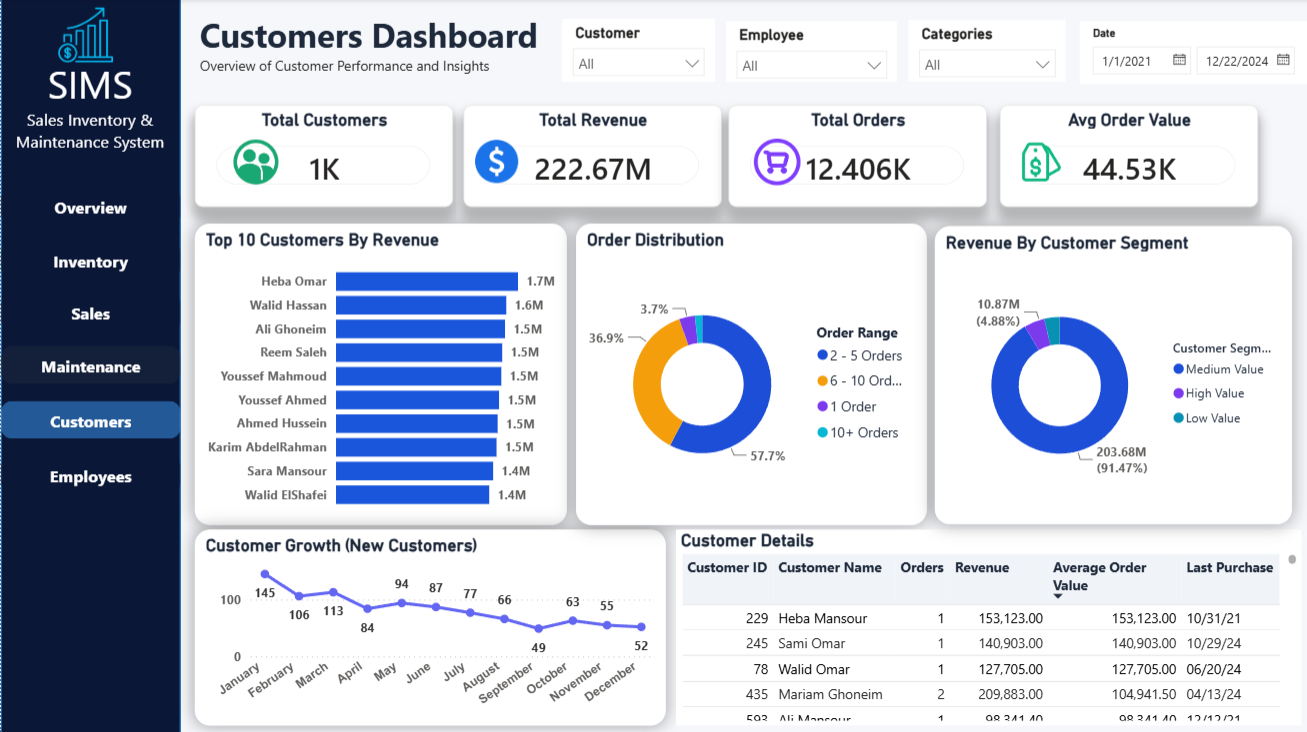

The dashboard page shown, as its layout file describes it:
{"tool":"powerbi","page":{"name":"Customers","canvas":[1280,720],"ordinal":4},"visuals":[{"type":"shape","box":[0,0,175.6,720.4],"z":0},{"type":"textbox","box":[189,8,389.7,86.4],"z":1000},{"type":"slicer","fields":{"Values":["maintenance_item.Date"]},"box":[1055,22,225,61.7],"z":2000},{"type":"slicer","fields":{"Values":["customers.Full Name"]},"box":[548.9,19.2,149.6,61.7],"z":3000},{"type":"slicer","fields":{"Values":["employees.Full Name"]},"box":[709.4,22,167.4,59],"z":4000},{"type":"slicer","fields":{"Values":["categories.Name"]},"box":[887.8,20.6,153.7,60.4],"z":5000},{"type":"cardVisual","title":"Total Customers","fields":{"Data":["CountNonNull(customers.Customers_id)"]},"box":[189.4,104.3,252.5,100.2],"z":6000},{"type":"cardVisual","title":"Total Revenue","fields":{"Data":["Sum(sales.Total_Price)"]},"box":[452.8,104.3,252.5,100.2],"z":7000},{"type":"cardVisual","title":"Total Orders","fields":{"Data":["CountNonNull(pro_sales.Sales_id)"]},"box":[712.2,104.3,252.5,100.2],"z":8000},{"type":"cardVisual","title":"Avg Order Value","fields":{"Data":["pro_sales.Average Order Value"]},"box":[977,104.3,252.5,100.2],"z":9000},{"type":"clusteredBarChart","title":"Top 10 Customers By Revenue","fields":{"Category":["customers.Full Name"],"Y":["sales.Total Revenue"]},"box":[189.4,219.6,364,295],"z":10000},{"type":"lineChart","title":"Customer Growth (New Customers)","fields":{"Category":["sales.Order_date.Variation.Date Hierarchy.Month"],"Y":["customers.New Customers"]},"box":[189.4,520.1,461.1,192.1],"z":11000},{"type":"donutChart","title":"Order Distribution","fields":{"Category":["customers.Order Range"],"Y":["Count(customers.Customers_id)"]},"box":[563,219.5,343.5,295.1],"z":12000},{"type":"tableEx","title":"Customer Details","fields":{"Values":["customers.Customers_id","customers.Full Name","sales.Sales_id","sales.Total Revenue","pro_sales.Average Order Value","customers.Last Purchase"]},"box":[660,520.1,612,192.1],"z":13000},{"type":"donutChart","title":"Revenue By Customer Segment","fields":{"Y":["Sum(sales.Total_Price)"],"Category":["customers.Customer Segment"]},"box":[914,222.4,349.2,292.2],"z":14000},{"type":"actionButton","box":[0,185.2,175.6,37],"z":15000},{"type":"actionButton","box":[0,237.4,175.6,37],"z":16000},{"type":"actionButton","box":[0,288.2,175.6,37],"z":17000},{"type":"actionButton","box":[0,340.3,175.6,37],"z":18000},{"type":"actionButton","box":[0,393.8,175.6,37],"z":19000},{"type":"actionButton","box":[0,447.3,175.6,37],"z":20000},{"type":"image","box":[976.4,136.8,84.1,45.6],"z":21000},{"type":"textbox","box":[2.9,52.7,169.6,122.6],"z":22000},{"type":"image","box":[0,8.2,166,53.5],"z":23000},{"type":"image","box":[453.3,132.6,62.7,54.2],"z":24000},{"type":"image","box":[225.2,136.8,48.5,45.6],"z":25000},{"type":"image","box":[735.5,136.8,48.5,45.6],"z":26000}]}

Visuals, with their boxes on the page's 1280x720 design canvas (x1, y1, x2, y2). These are canvas units, not pixel positions in the 1307x732 screenshot, which may show the page scaled, cropped or inside an application window:
shape: [x1=0, y1=0, x2=176, y2=720]
textbox: [x1=189, y1=8, x2=579, y2=94]
slicer - maintenance_item.Date: [x1=1055, y1=22, x2=1280, y2=84]
slicer - customers.Full Name: [x1=549, y1=19, x2=698, y2=81]
slicer - employees.Full Name: [x1=709, y1=22, x2=877, y2=81]
slicer - categories.Name: [x1=888, y1=21, x2=1042, y2=81]
"Total Customers" cardVisual: [x1=189, y1=104, x2=442, y2=204]
"Total Revenue" cardVisual: [x1=453, y1=104, x2=705, y2=204]
"Total Orders" cardVisual: [x1=712, y1=104, x2=965, y2=204]
"Avg Order Value" cardVisual: [x1=977, y1=104, x2=1230, y2=204]
"Top 10 Customers By Revenue" clusteredBarChart: [x1=189, y1=220, x2=553, y2=515]
"Customer Growth (New Customers)" lineChart: [x1=189, y1=520, x2=650, y2=712]
"Order Distribution" donutChart: [x1=563, y1=220, x2=906, y2=515]
"Customer Details" tableEx: [x1=660, y1=520, x2=1272, y2=712]
"Revenue By Customer Segment" donutChart: [x1=914, y1=222, x2=1263, y2=515]
actionButton: [x1=0, y1=185, x2=176, y2=222]
actionButton: [x1=0, y1=237, x2=176, y2=274]
actionButton: [x1=0, y1=288, x2=176, y2=325]
actionButton: [x1=0, y1=340, x2=176, y2=377]
actionButton: [x1=0, y1=394, x2=176, y2=431]
actionButton: [x1=0, y1=447, x2=176, y2=484]
image: [x1=976, y1=137, x2=1060, y2=182]
textbox: [x1=3, y1=53, x2=172, y2=175]
image: [x1=0, y1=8, x2=166, y2=62]
image: [x1=453, y1=133, x2=516, y2=187]
image: [x1=225, y1=137, x2=274, y2=182]
image: [x1=736, y1=137, x2=784, y2=182]
